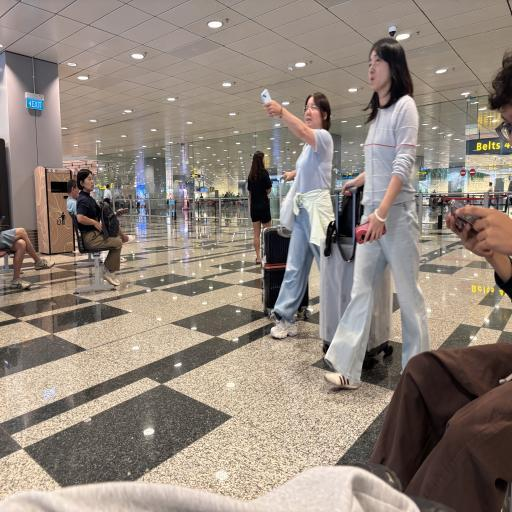person_with_luggage_left: (318, 24, 450, 374), (255, 74, 343, 348)
